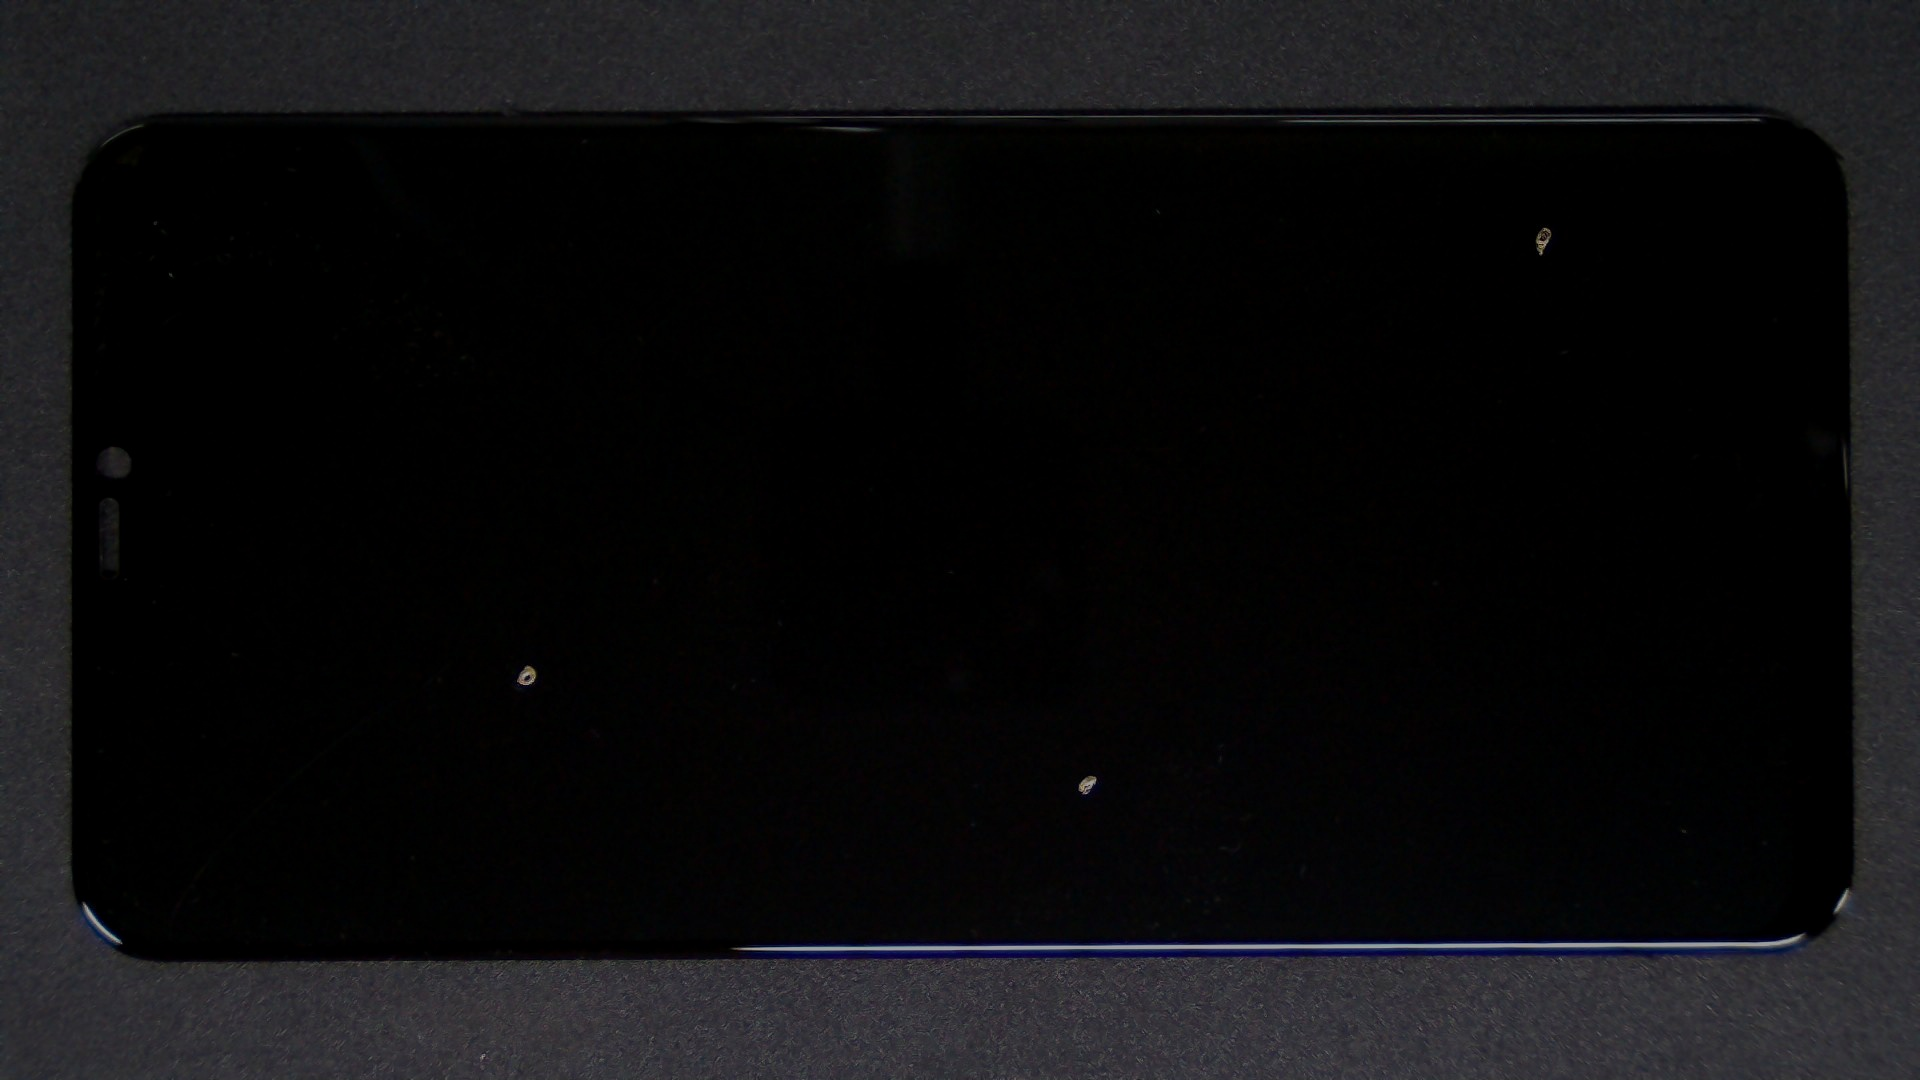oil: (545, 386, 1630, 1080), (262, 331, 786, 996), (774, 112, 1920, 338)
